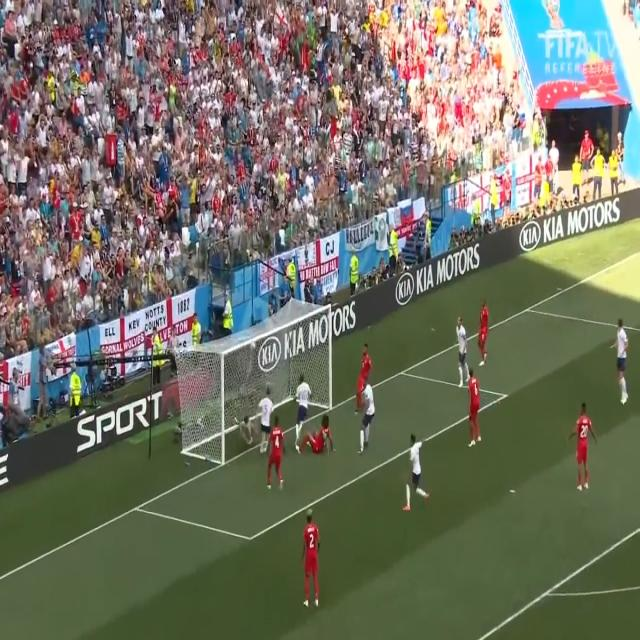player: (298, 503, 324, 611), (571, 400, 598, 494), (403, 429, 432, 512), (609, 315, 631, 409), (294, 367, 310, 460), (465, 370, 483, 452), (358, 377, 376, 456), (267, 419, 285, 494), (304, 412, 334, 456), (454, 311, 468, 389), (476, 297, 490, 372), (257, 385, 271, 457), (356, 338, 371, 377)
